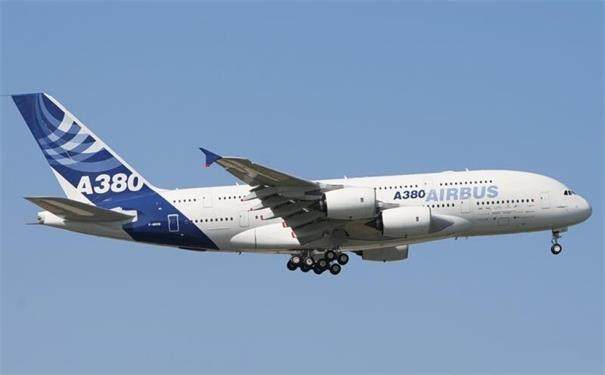airplane: (8, 89, 592, 271)
